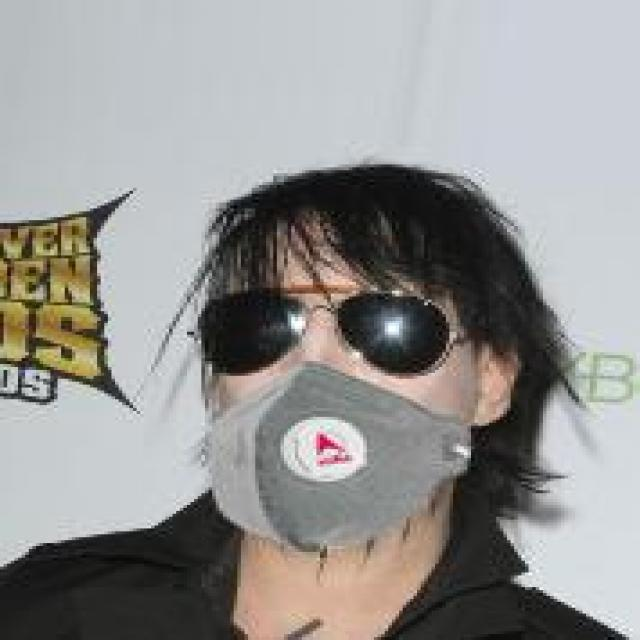mask: (137, 103, 586, 552)
